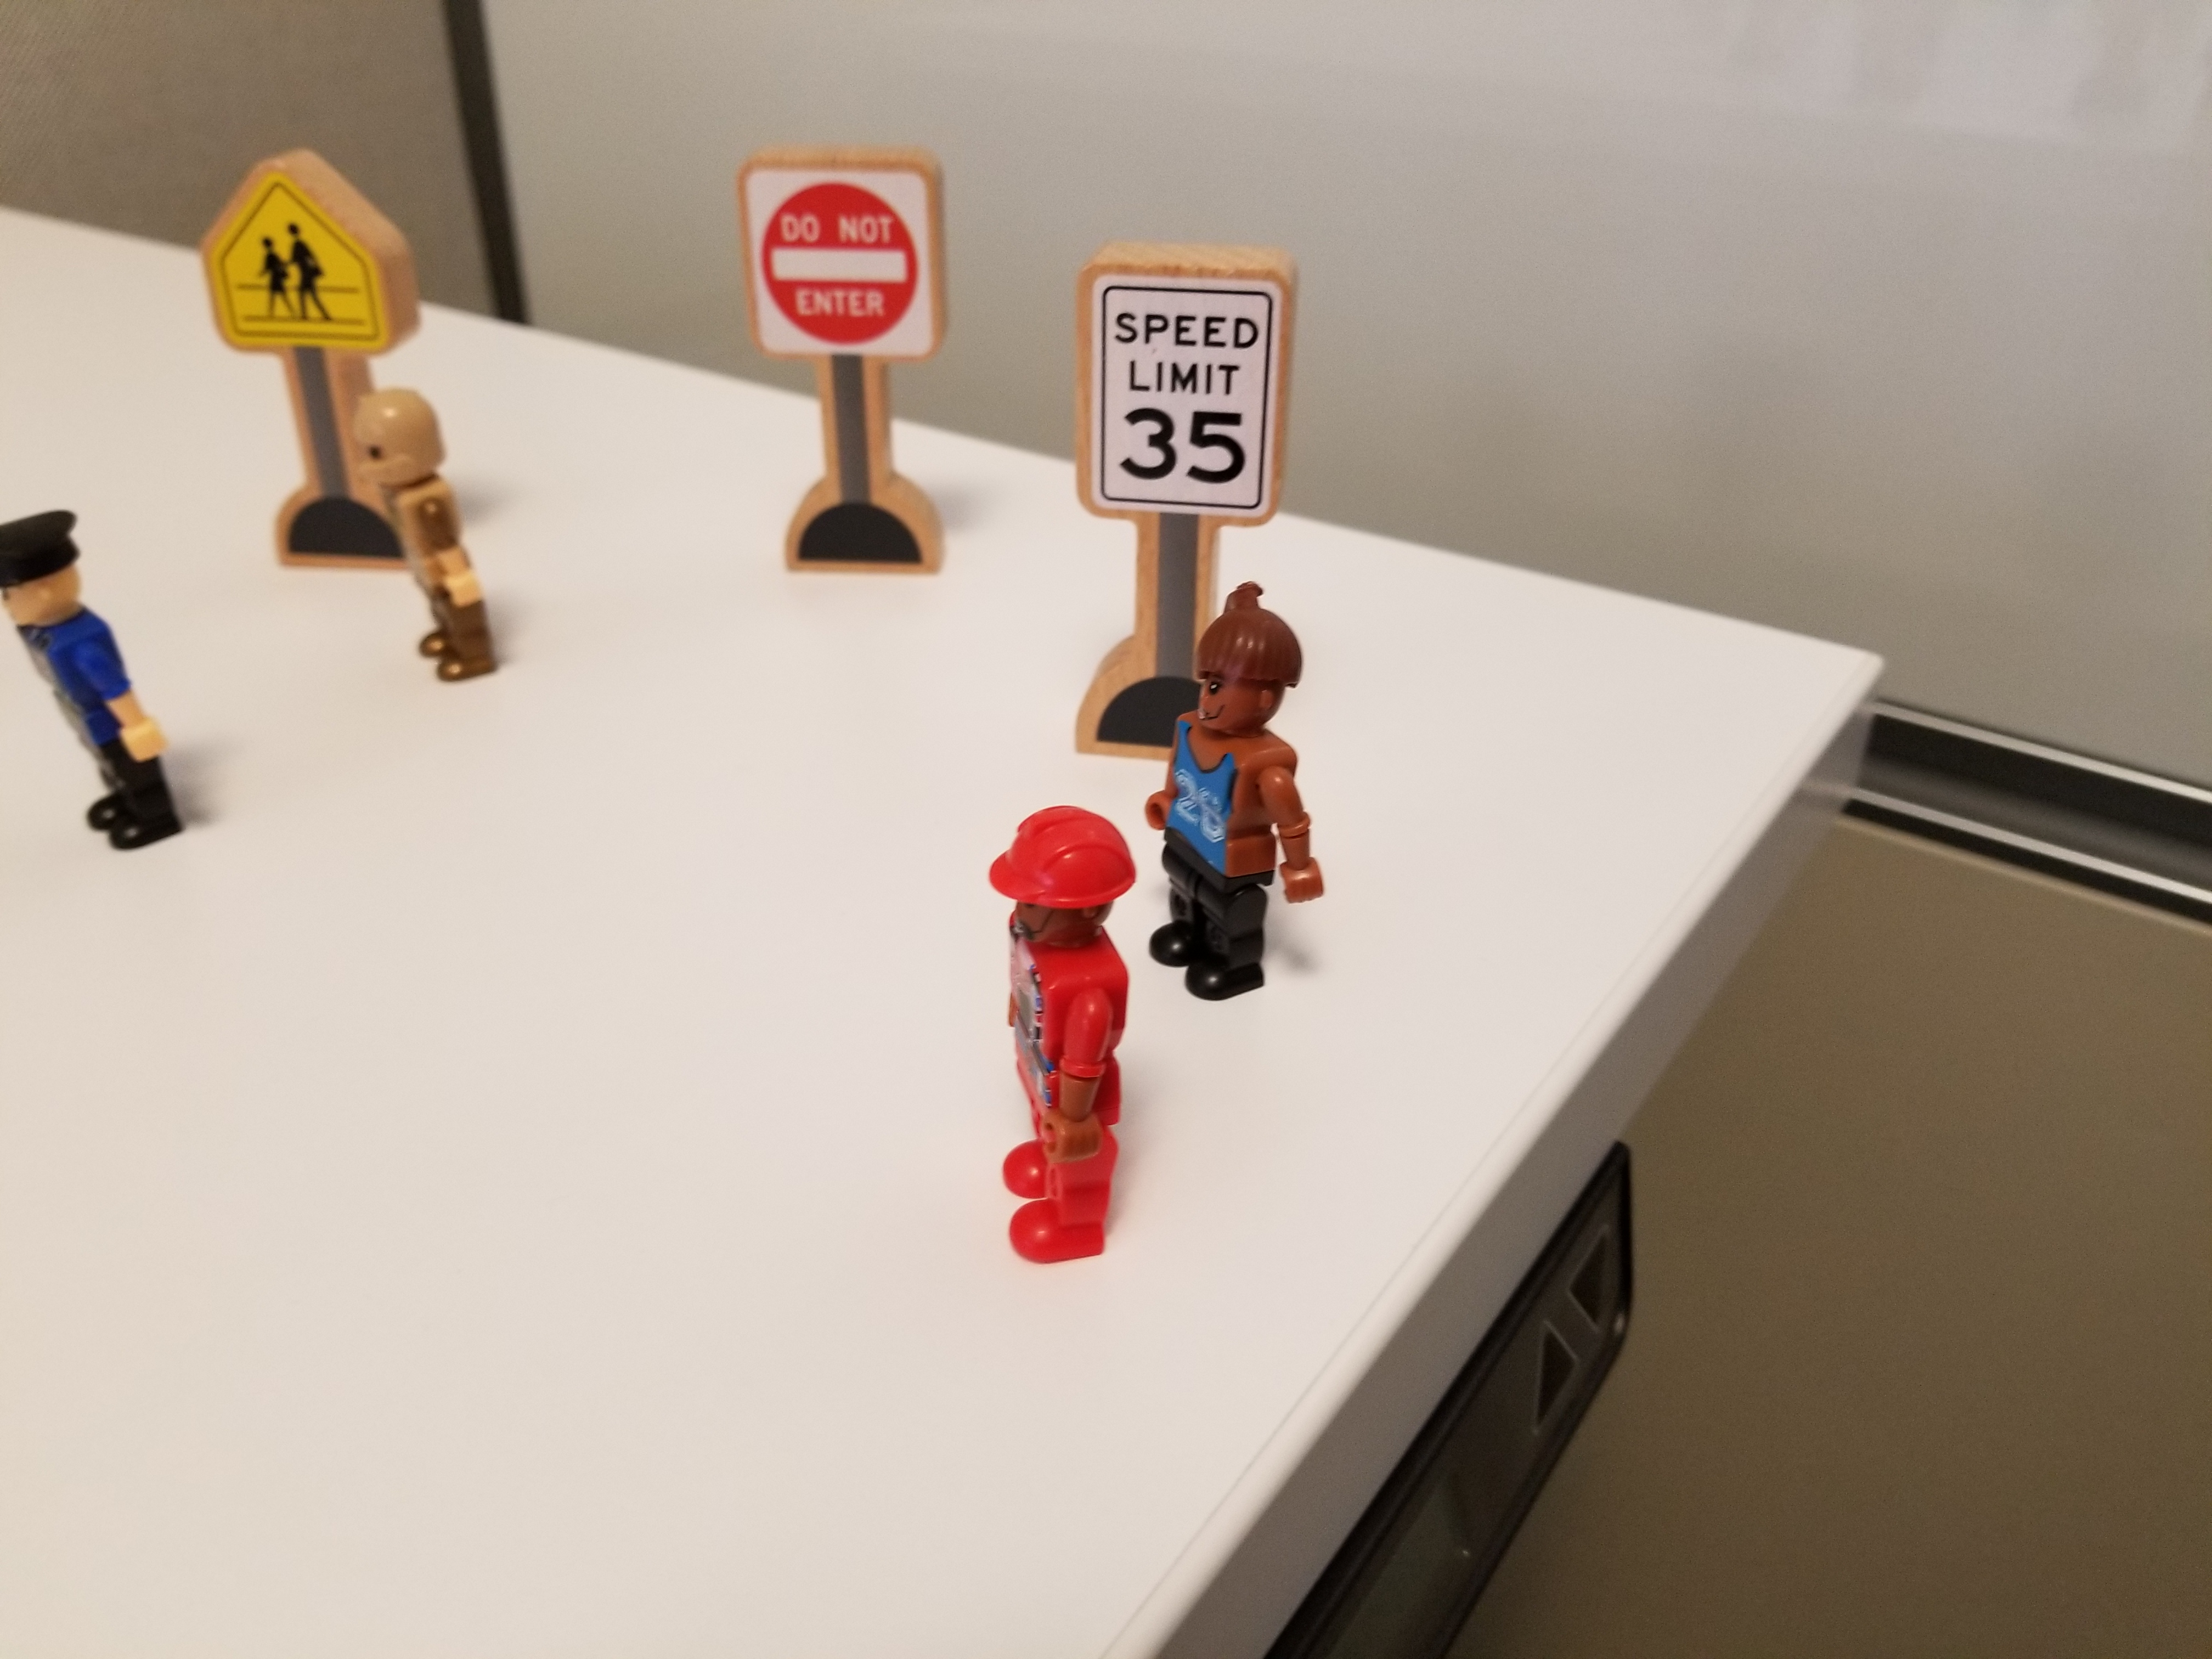Do not enter: (710, 124, 984, 618)
Pedestrian crossing: (188, 131, 420, 352)
Speed limit 35: (1048, 188, 1329, 517)
person: (964, 785, 1158, 1294), (300, 370, 545, 765), (23, 477, 227, 951), (1140, 563, 1333, 1065)
